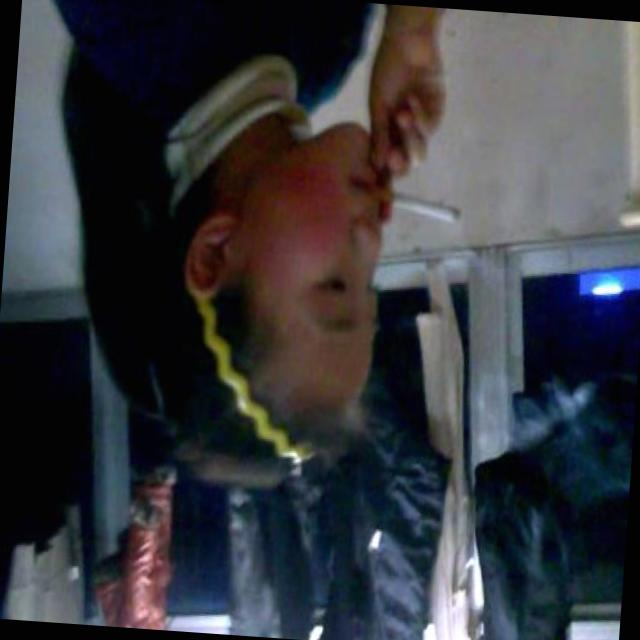smoke: (392, 194, 463, 227)
